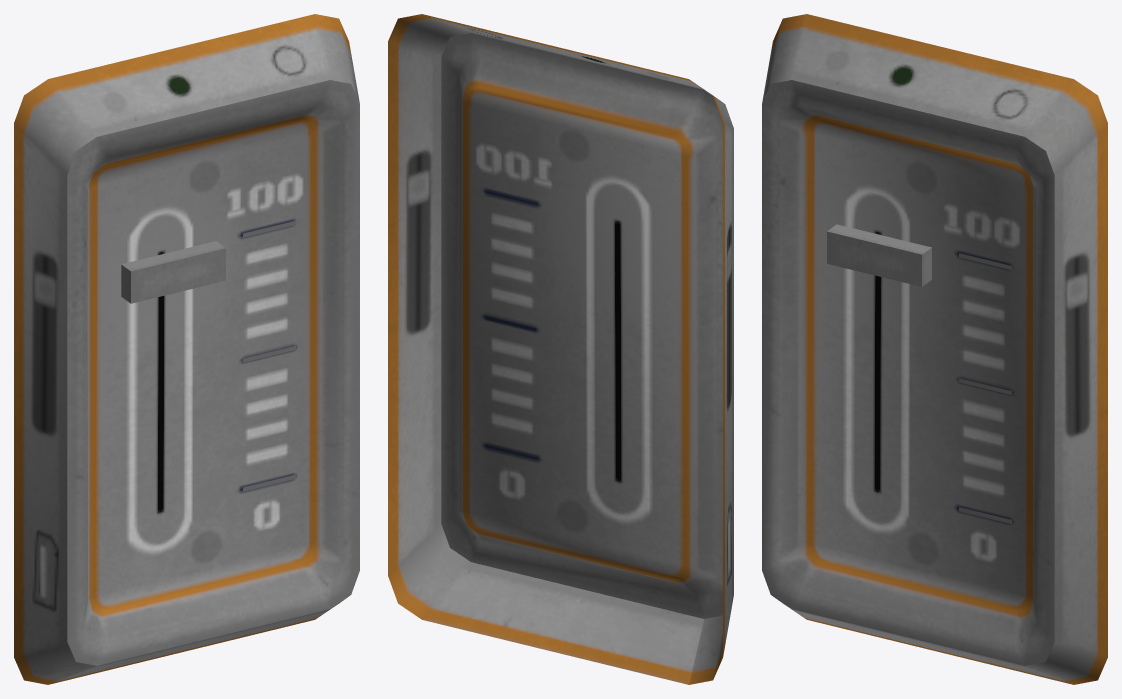
The model's file is Lever B1C.fbx.
3 views of the same model, side by side, from view 1: azimuth 30°, elevation 25°; view 2: azimuth 150°, elevation 25°; view 3: azimuth 330°, elevation 25° (orthographic).
Parts seen in each view (by area): view 1: Lever B1C, LeverHandle B1C; view 2: Lever B1C; view 3: Lever B1C, LeverHandle B1C.
Part boxes in pixels (box(x1,y1,x2,y2)): Lever B1C: box(14, 14, 359, 684); LeverHandle B1C: box(121, 241, 225, 303); Lever B1C: box(388, 14, 733, 684); Lever B1C: box(762, 14, 1107, 684); LeverHandle B1C: box(827, 224, 931, 286).
Size of the model in its own units: 9.16 by 15.83 by 1.52.
2 materials, 1 textured.
